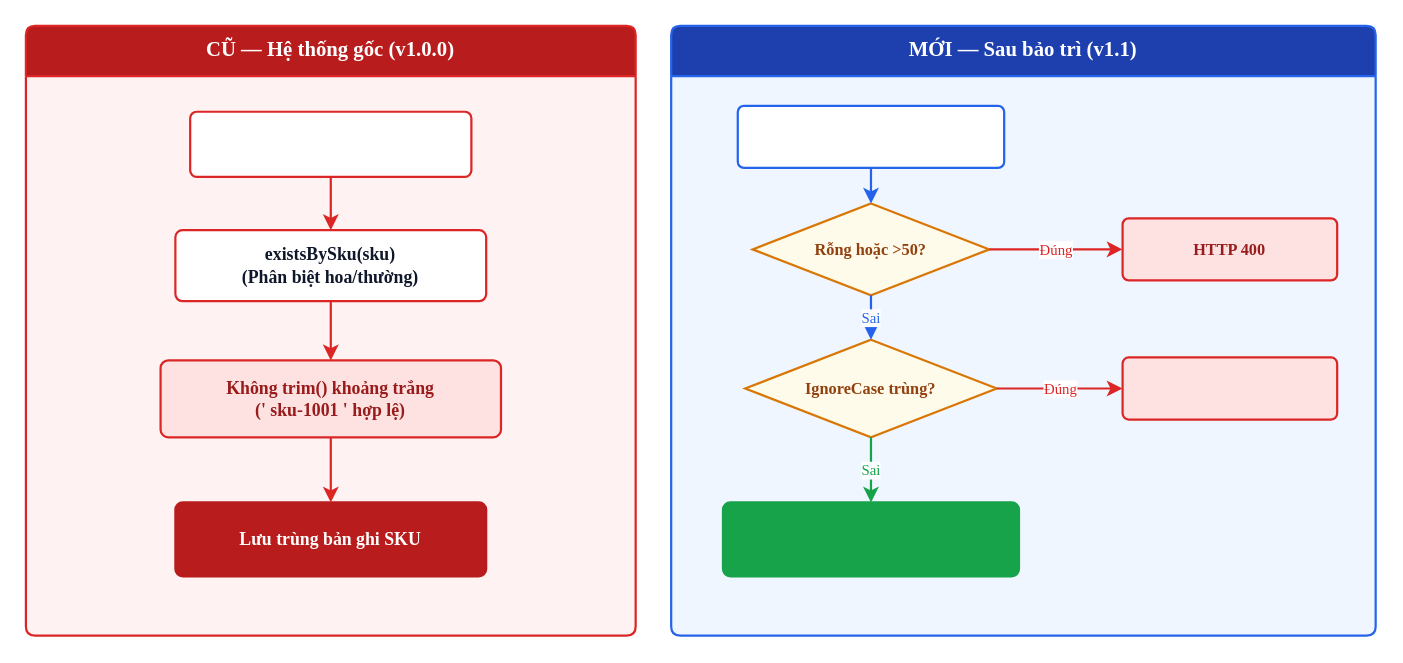
Some shapes in this 1403 by 663 pixel diagram are drawn without their labels. The centre of each missing label's shape, as x and y in pixels:
HTTP 409: (1229,388)
Lưu SKU chuẩn hóa + Ghi AuditLog: (870,539)
Nhập & trim + UPPER: (870,136)
Nhập chuỗi SKU: (330,143)
